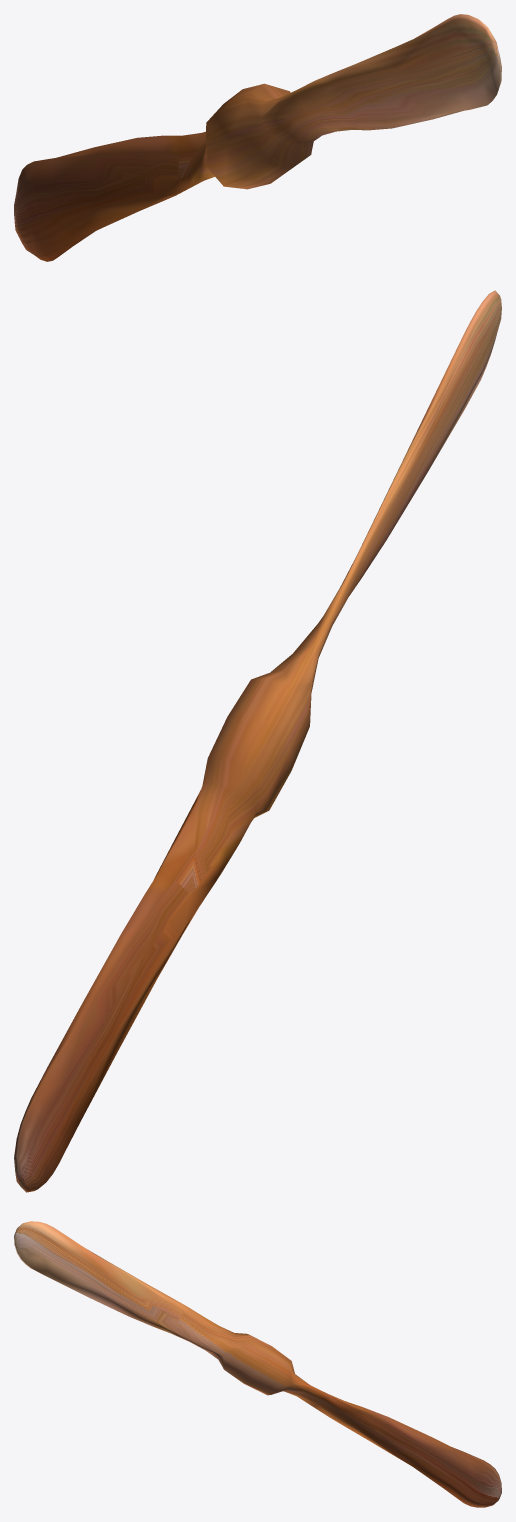
The model's file is morane_saulnier_g_prop.glb.
3 views of the same model, one above another, from view 1: azimuth 30°, elevation 25°; view 2: azimuth 150°, elevation 25°; view 3: azimuth 270°, elevation 25° (orthographic). The views are drawn at different scales.
Parts seen in each view (by area): view 1: Box02-FACES; view 2: Box02-FACES; view 3: Box02-FACES.
Part boxes in pixels (x1,y1,x2,y2): Box02-FACES: [14, 14, 501, 261]; Box02-FACES: [14, 290, 501, 1192]; Box02-FACES: [14, 1221, 501, 1507].
Bounding box in the file's own units: 0.1493 × 1.36 × 2.11.
Materials: 1 (1 with a texture image).
